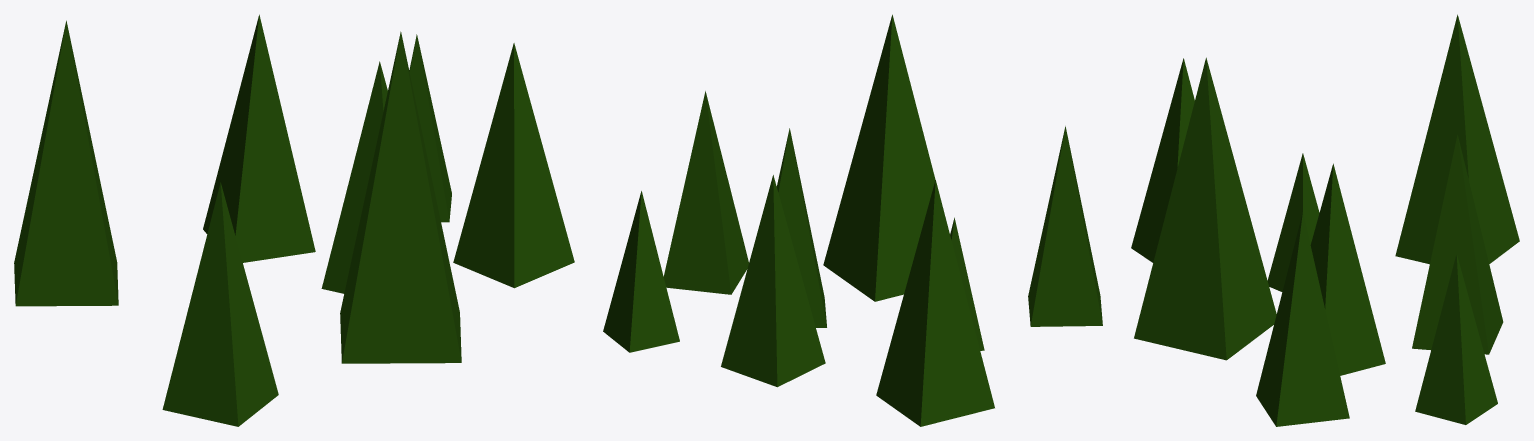
The model's file is Hex_decTrees.fbx.
The picture shows the model from 3 angles, left to right: view 1: azimuth 30°, elevation 25°; view 2: azimuth 150°, elevation 25°; view 3: azimuth 270°, elevation 25°; orthographic projection. The views are drawn at different scales.
Parts seen in each view (by area): view 1: pPyramid16; view 2: pPyramid16; view 3: pPyramid16.
Part boxes in pixels (x1=…): pPyramid16: x1=14, y1=14, x2=574, y2=426; pPyramid16: x1=603, y1=14, x2=1102, y2=426; pPyramid16: x1=1131, y1=14, x2=1519, y2=426.
Size of the model in its own units: 3.14 by 2.12 by 2.55.
